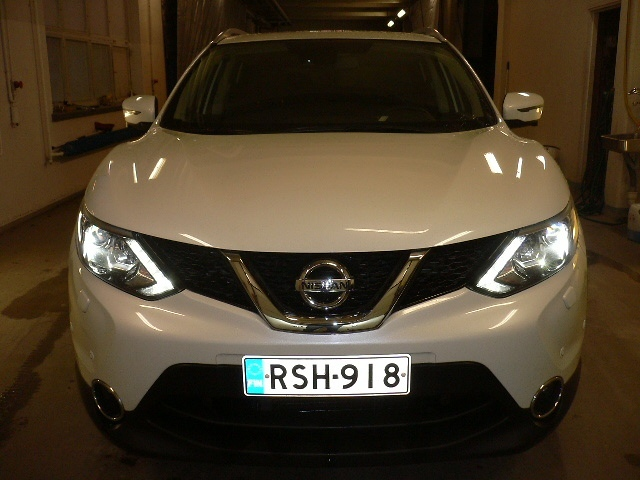license: (236, 349, 412, 399)
